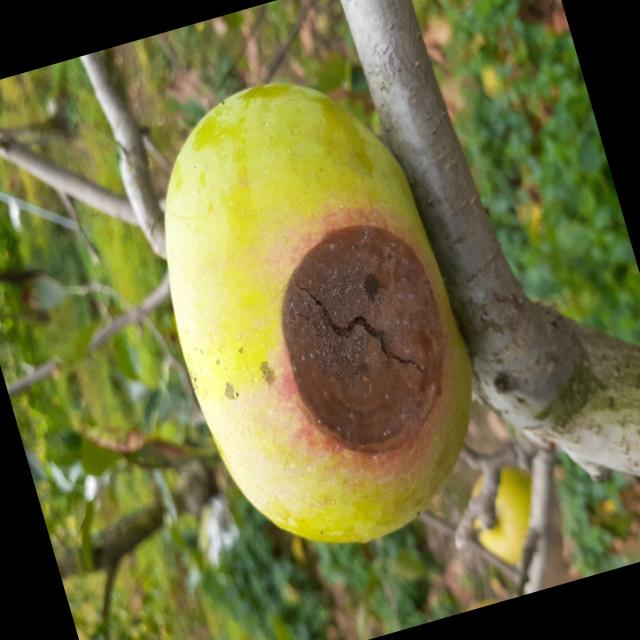rotten: (108, 38, 520, 585)
